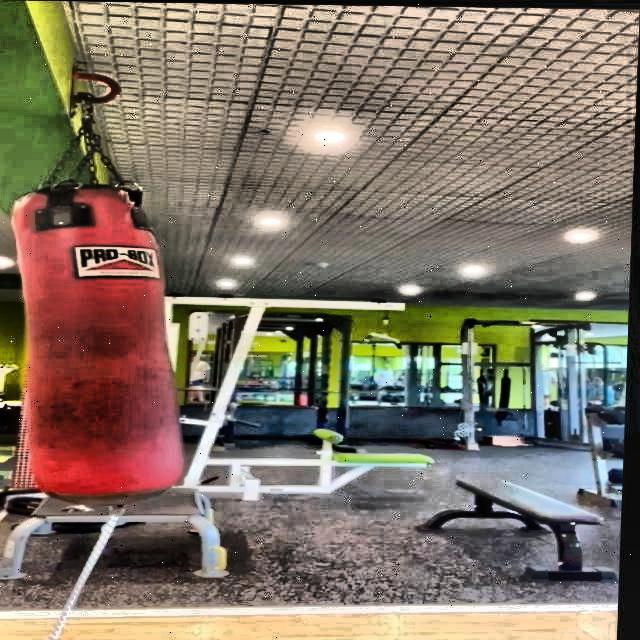boxing-bag: (3, 77, 190, 511)
